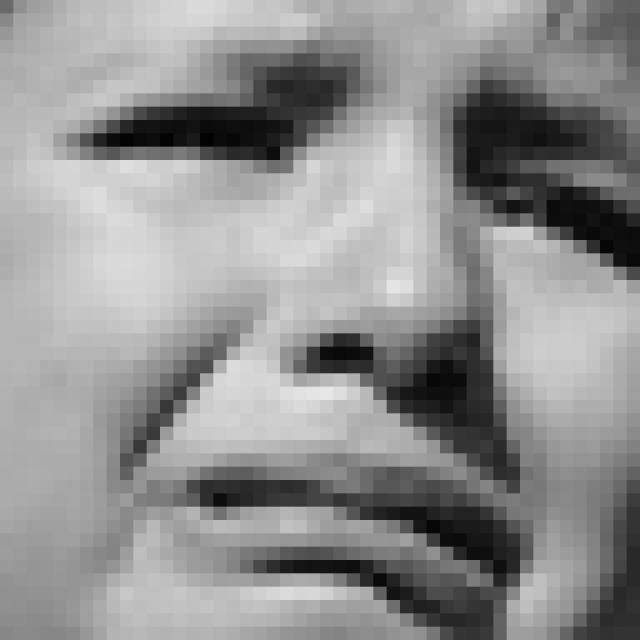sad: (47, 25, 640, 640)
